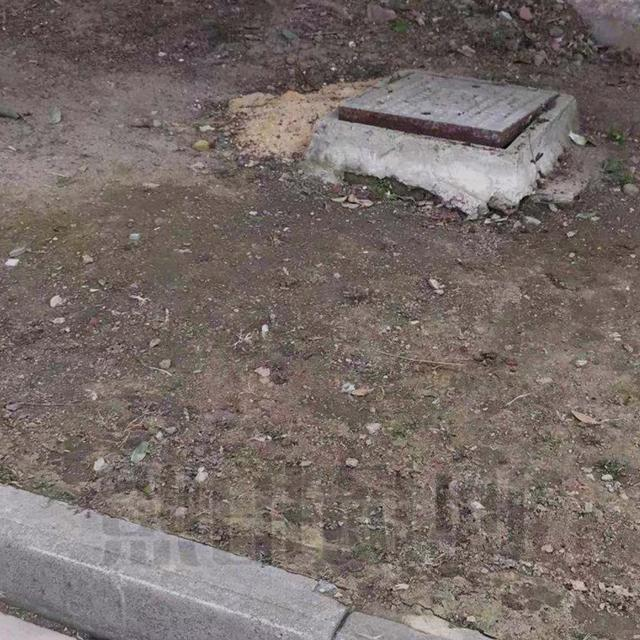uncovered: (332, 69, 575, 160)
